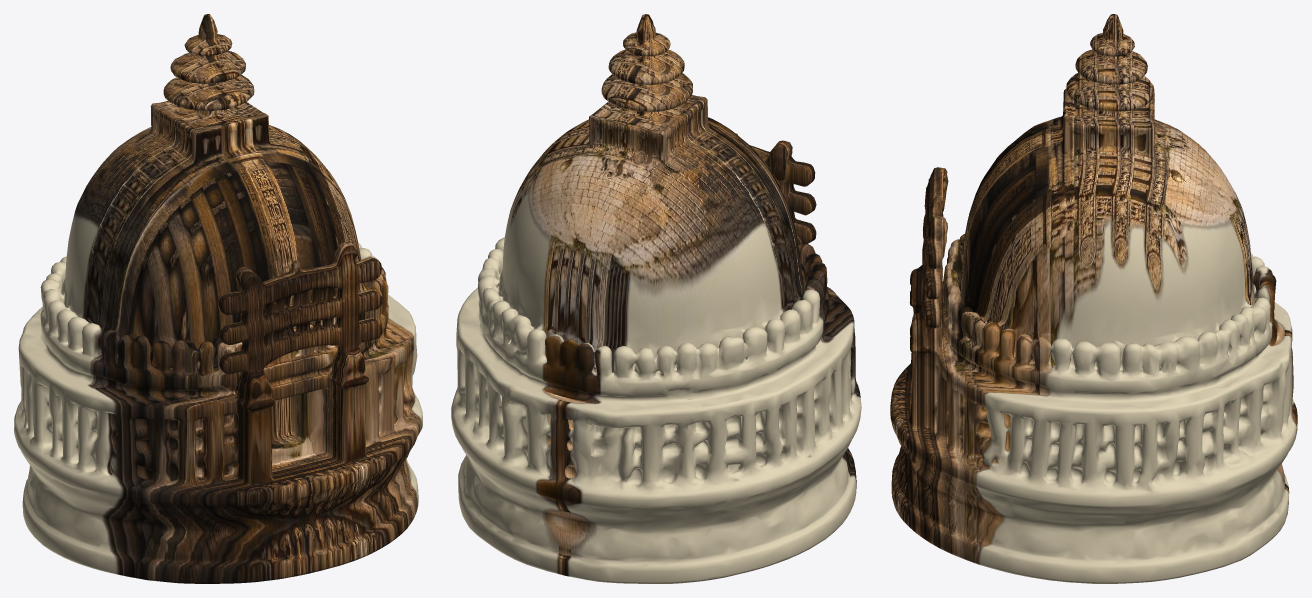
Rendered from great_stupa.glb.
3 views of the same model, side by side, from view 1: azimuth 30°, elevation 25°; view 2: azimuth 150°, elevation 25°; view 3: azimuth 270°, elevation 25° (orthographic).
Visible parts, largest first — view 1: geometry_0; view 2: geometry_0; view 3: geometry_0.
Part boxes in pixels (left/top/right/bottom): geometry_0: left=14, top=14, right=422, bottom=583; geometry_0: left=451, top=14, right=861, bottom=583; geometry_0: left=890, top=14, right=1297, bottom=583.
Bounding box in the file's own units: 1.49 × 1.99 × 1.49.
Materials: 1 (1 with a texture image).
